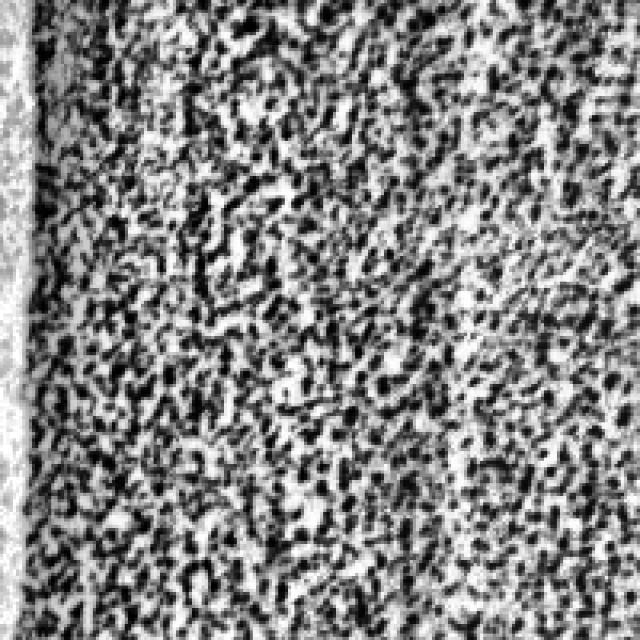Rolled_in_Scale: (29, 0, 637, 630)
